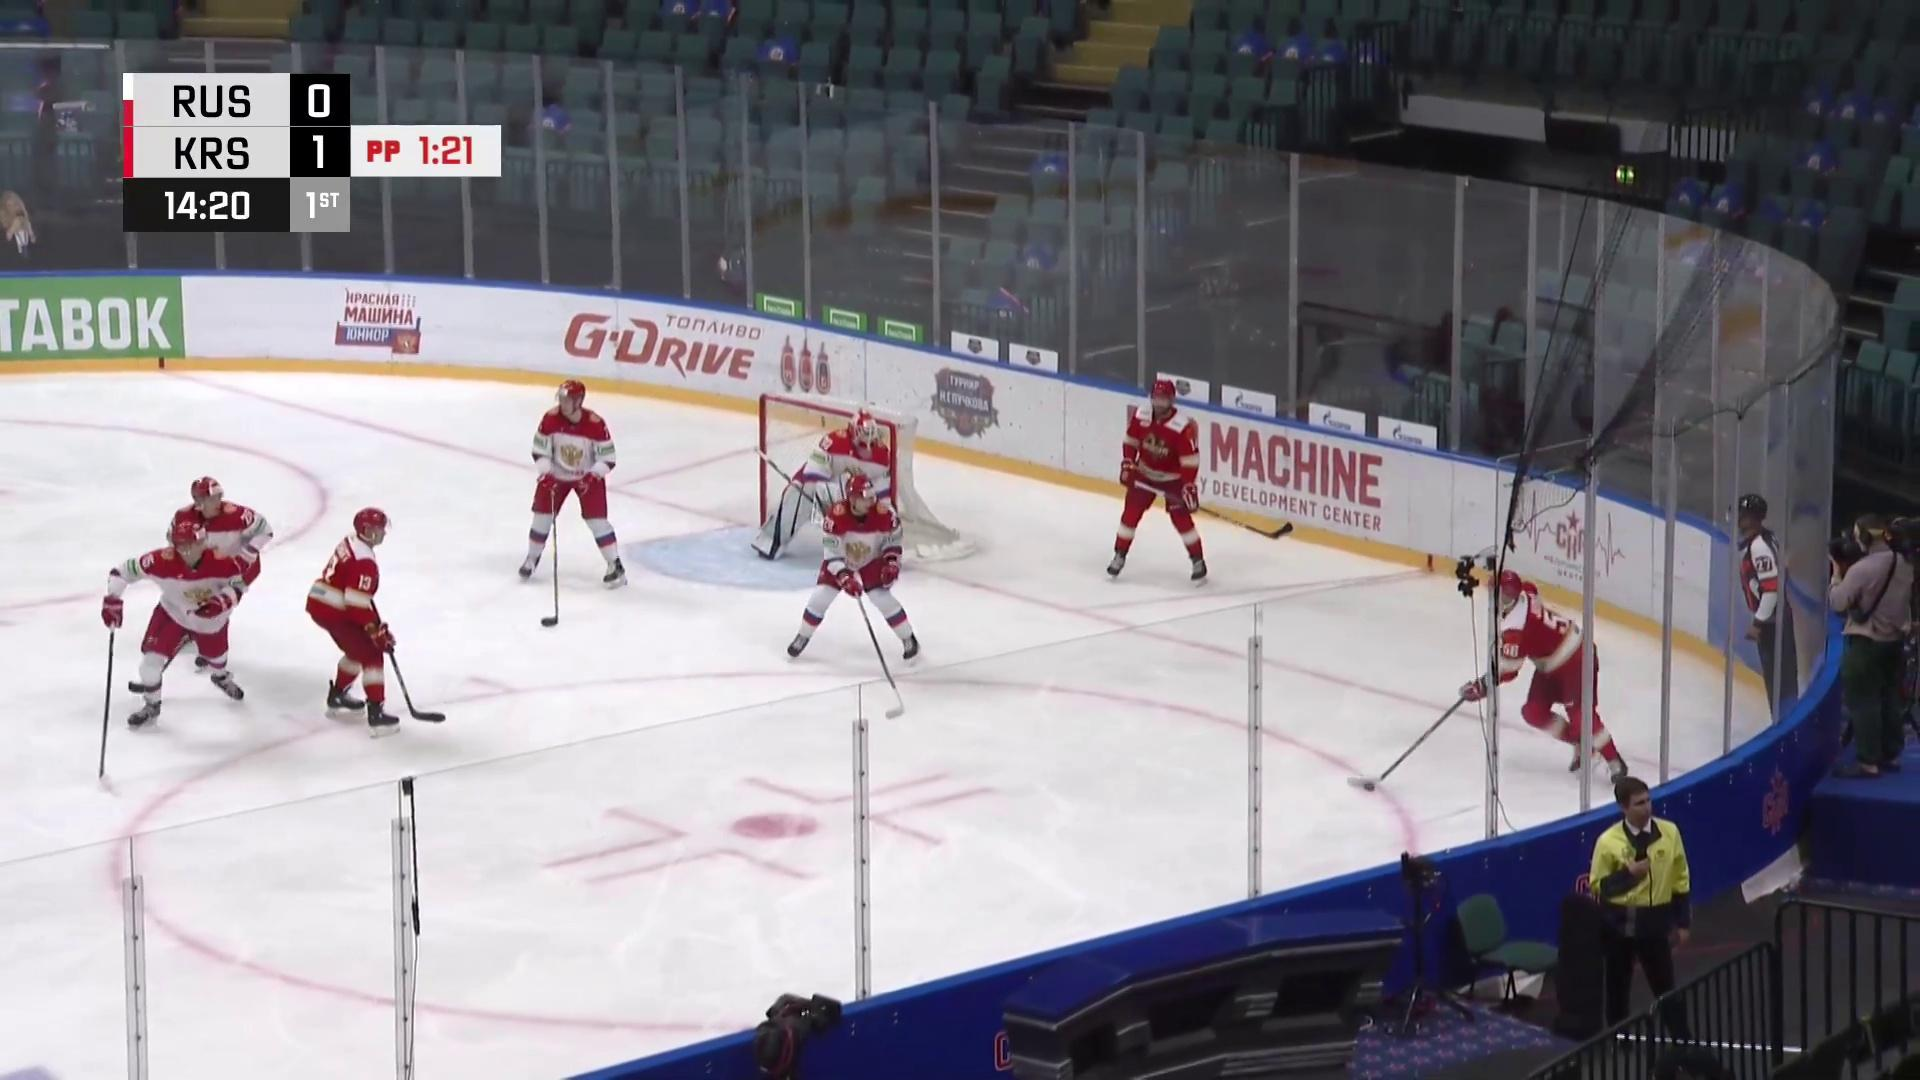ball: (1361, 782, 1379, 793)
